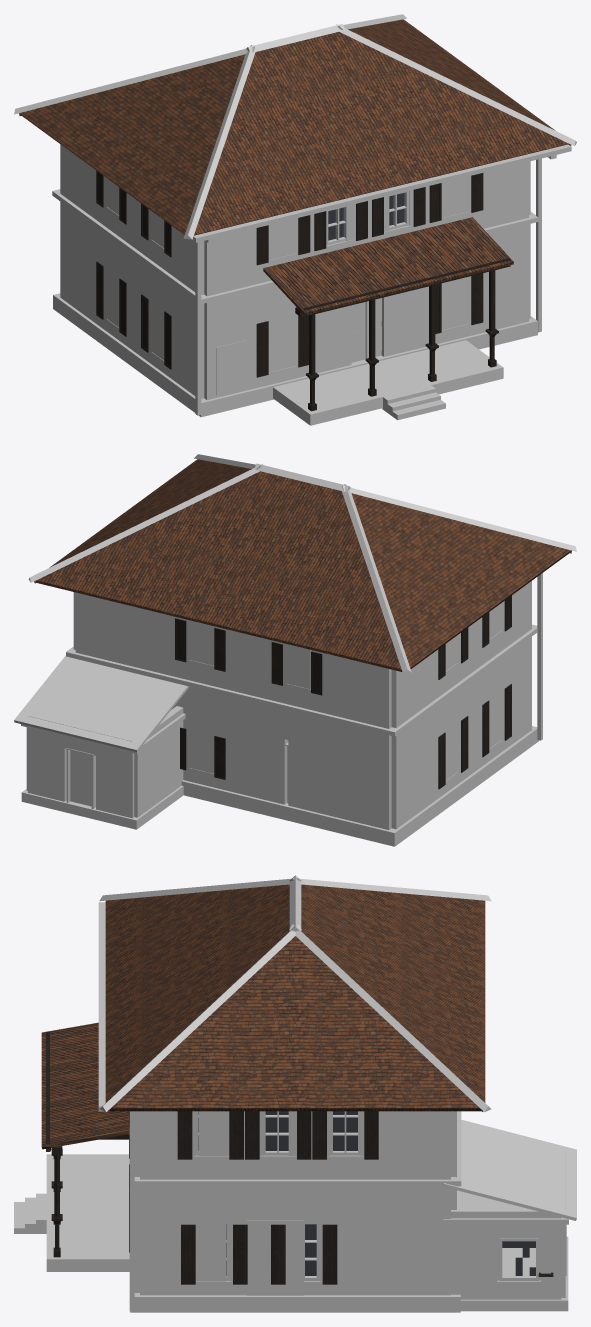
File: RumahAtmaja.fbx
3 views of the same model, one above another, from view 1: azimuth 30°, elevation 25°; view 2: azimuth 150°, elevation 25°; view 3: azimuth 270°, elevation 25° (orthographic). The views are drawn at different scales.
Visible parts, largest first — view 1: Static__House_MAT_RoofTiles, Static__House_MAT_PlasterLower, Static__House_MAT_TrimTeak, Static__House_MAT_Concrete, Static__House_MAT_RoofTilesAnnex, Static__House_MAT_RustMetal, Static__House_MAT_BrickBase, Static__House_MAT_WoodFrameWhite, Static__House_MAT_PlasterDamaged, Static__House_MAT_WoodDoor, Static__House_MAT_GlassDark; view 2: Static__House_MAT_PlasterLower, Static__House_MAT_RoofTiles, Static__House_MAT_RoofTilesAnnex, Static__House_MAT_BrickBase, Static__House_MAT_TrimTeak, Static__House_MAT_Concrete, Static__House_MAT_WoodDoor, Static__House_MAT_RustMetal; view 3: Static__House_MAT_RoofTiles, Static__House_MAT_PlasterLower, Static__House_MAT_RoofTilesAnnex, Static__House_MAT_Concrete, Static__House_MAT_TrimTeak, Static__House_MAT_BrickBase, Static__House_MAT_PlasterDamaged, Static__House_MAT_RustMetal, Static__House_MAT_WoodFrameWhite, Static__House_MAT_GlassDark, KitchenGlass__House_MAT_WoodDoor.
Part boxes in pixels (left/top/right/bottom): Static__House_MAT_RoofTiles: left=19, top=19, right=571, bottom=315; Static__House_MAT_PlasterLower: left=60, top=144, right=530, bottom=399; Static__House_MAT_TrimTeak: left=96, top=171, right=510, bottom=411; Static__House_MAT_Concrete: left=52, top=189, right=538, bottom=425; Static__House_MAT_RoofTilesAnnex: left=14, top=14, right=576, bottom=239; Static__House_MAT_RustMetal: left=192, top=144, right=571, bottom=415; Static__House_MAT_BrickBase: left=53, top=293, right=537, bottom=417; Static__House_MAT_WoodFrameWhite: left=106, top=191, right=469, bottom=374; Static__House_MAT_PlasterDamaged: left=216, top=340, right=245, bottom=395; Static__House_MAT_WoodDoor: left=351, top=298, right=381, bottom=362; Static__House_MAT_GlassDark: left=328, top=193, right=404, bottom=240; Static__House_MAT_PlasterLower: left=26, top=581, right=531, bottom=829; Static__House_MAT_RoofTiles: left=34, top=459, right=571, bottom=671; Static__House_MAT_RoofTilesAnnex: left=14, top=454, right=576, bottom=752; Static__House_MAT_BrickBase: left=21, top=726, right=538, bottom=846; Static__House_MAT_TrimTeak: left=175, top=595, right=511, bottom=789; Static__House_MAT_Concrete: left=21, top=624, right=537, bottom=753; Static__House_MAT_WoodDoor: left=66, top=742, right=288, bottom=808; Static__House_MAT_RustMetal: left=537, top=573, right=542, bottom=740; Static__House_MAT_RoofTiles: left=41, top=884, right=485, bottom=1149; Static__House_MAT_PlasterLower: left=134, top=1111, right=565, bottom=1299; Static__House_MAT_RoofTilesAnnex: left=99, top=875, right=576, bottom=1220; Static__House_MAT_Concrete: left=14, top=1111, right=568, bottom=1271; Static__House_MAT_TrimTeak: left=46, top=1031, right=553, bottom=1284; Static__House_MAT_BrickBase: left=130, top=1236, right=568, bottom=1312; Static__House_MAT_PlasterDamaged: left=247, top=1220, right=303, bottom=1295; Static__House_MAT_RustMetal: left=98, top=902, right=134, bottom=1311; Static__House_MAT_WoodFrameWhite: left=193, top=1111, right=363, bottom=1283; Static__House_MAT_GlassDark: left=198, top=1111, right=357, bottom=1275; KitchenGlass__House_MAT_WoodDoor: left=497, top=1238, right=541, bottom=1283.
Size of the model in its own units: 1467 by 1022 by 1630.
